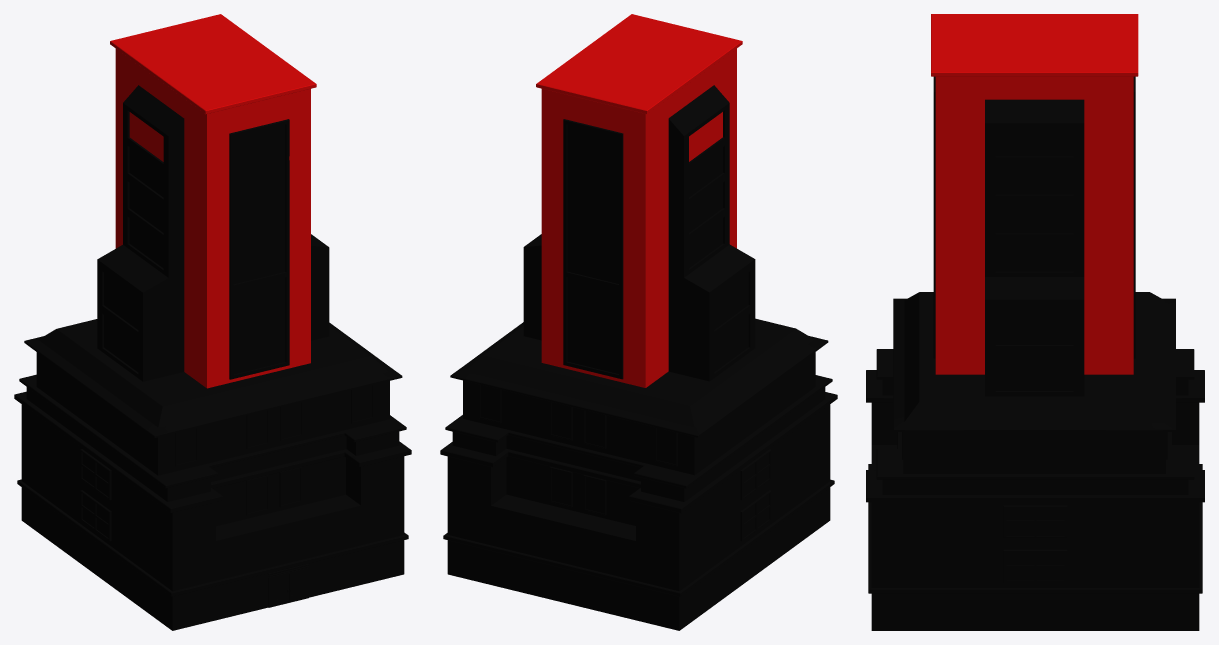
The model's file is Headquarters_High.fbx.
3 renders of one model, left to right at view 1: azimuth 30°, elevation 25°; view 2: azimuth 150°, elevation 25°; view 3: azimuth 270°, elevation 25°, orthographic. The views are drawn at different scales.
Visible parts, largest first — view 1: Headquarters_High; view 2: Headquarters_High; view 3: Headquarters_High.
Part boxes in pixels (x1=…): Headquarters_High: x1=14, y1=14, x2=411, y2=630; Headquarters_High: x1=440, y1=14, x2=837, y2=630; Headquarters_High: x1=866, y1=14, x2=1204, y2=630.
Size of the model in its own units: 16.35 by 30.6 by 17.86.
